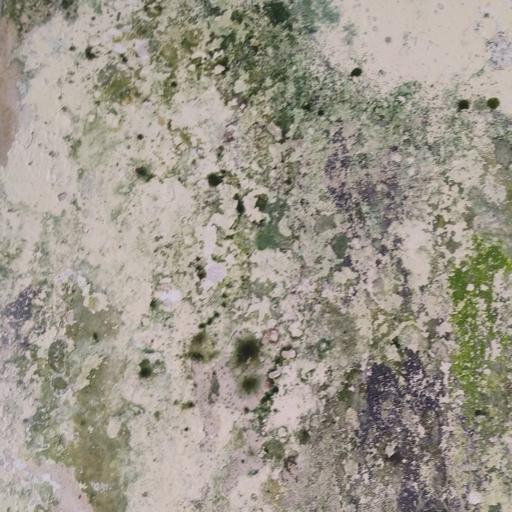algae: (89, 12, 512, 512)
